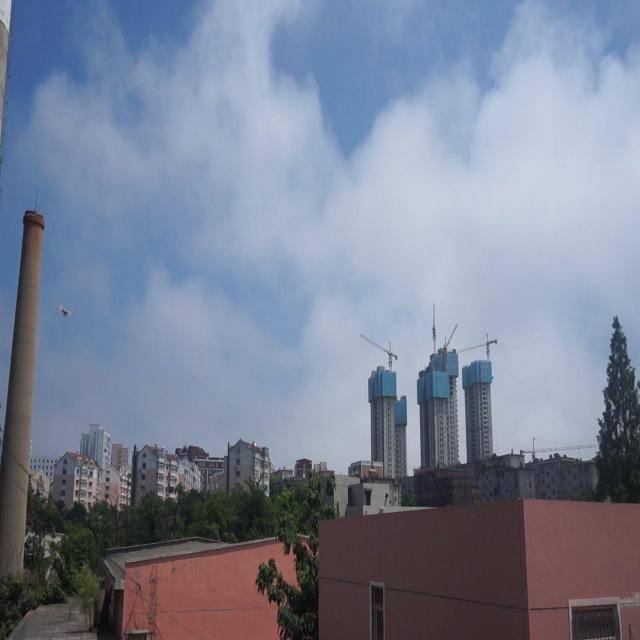UAV: (59, 304, 72, 320)
